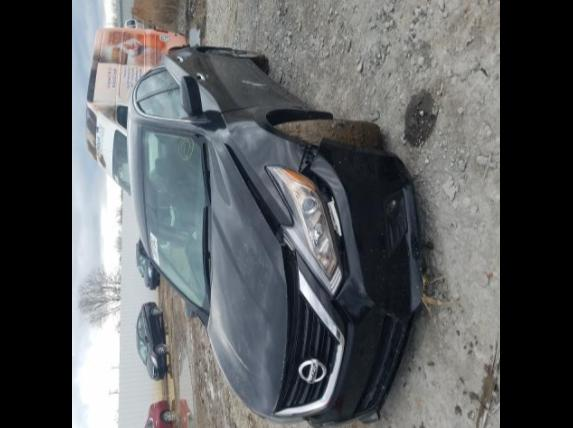Broken part: (297, 138, 422, 428), (214, 138, 302, 414)
Dent: (274, 342, 286, 388)
